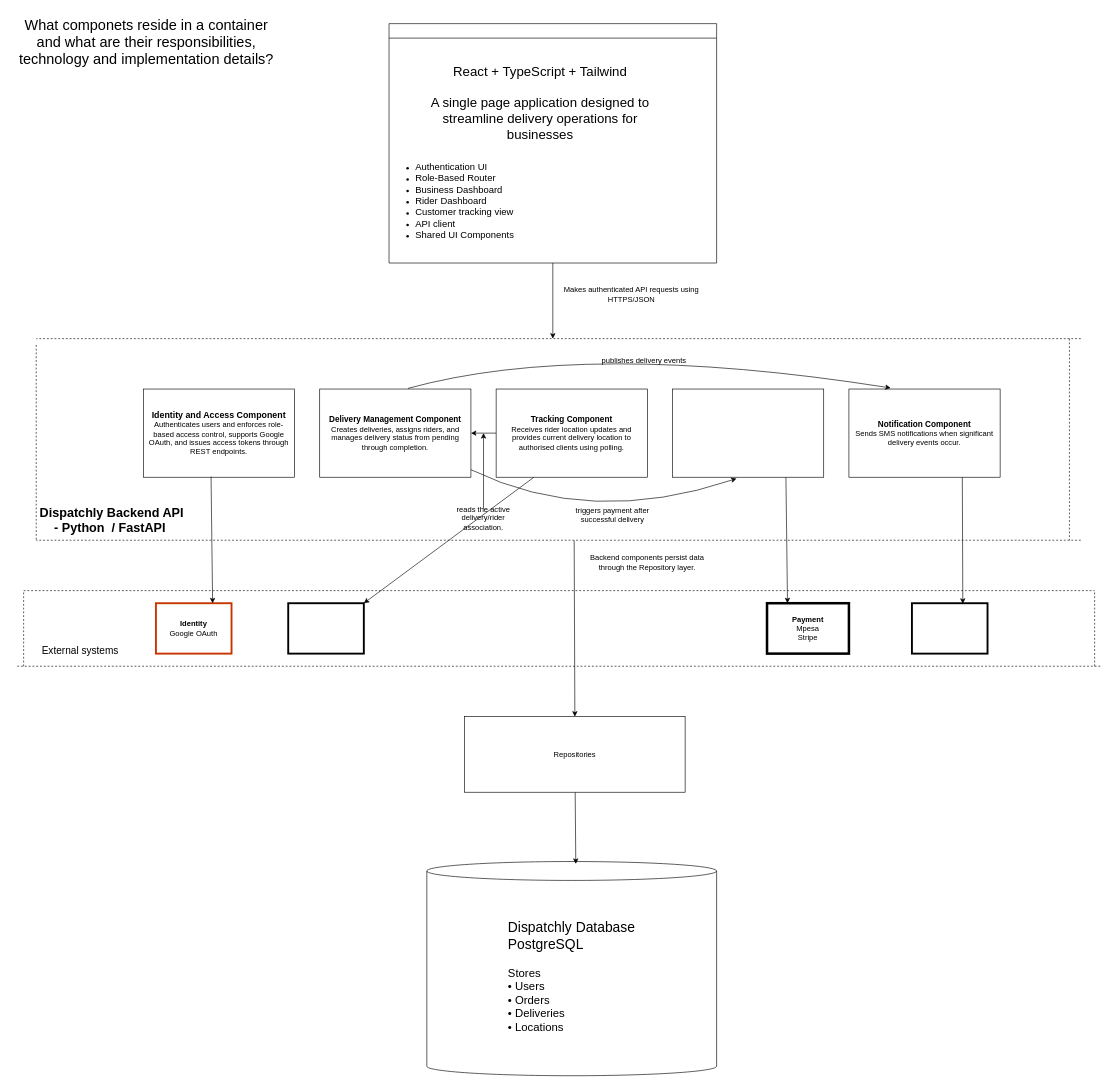
Some shapes in this 1113 by 1087 pixel diagram are drawn without their labels. Each missing label, with the box of its shape:
Dispatchly Web app: (388, 23, 717, 263)
Google Maps API: (287, 602, 364, 654)
Notifications SMS Provider: (911, 602, 988, 654)
Payment Component Enables payment integration using Mpesa and or Stripe: (672, 388, 824, 477)
